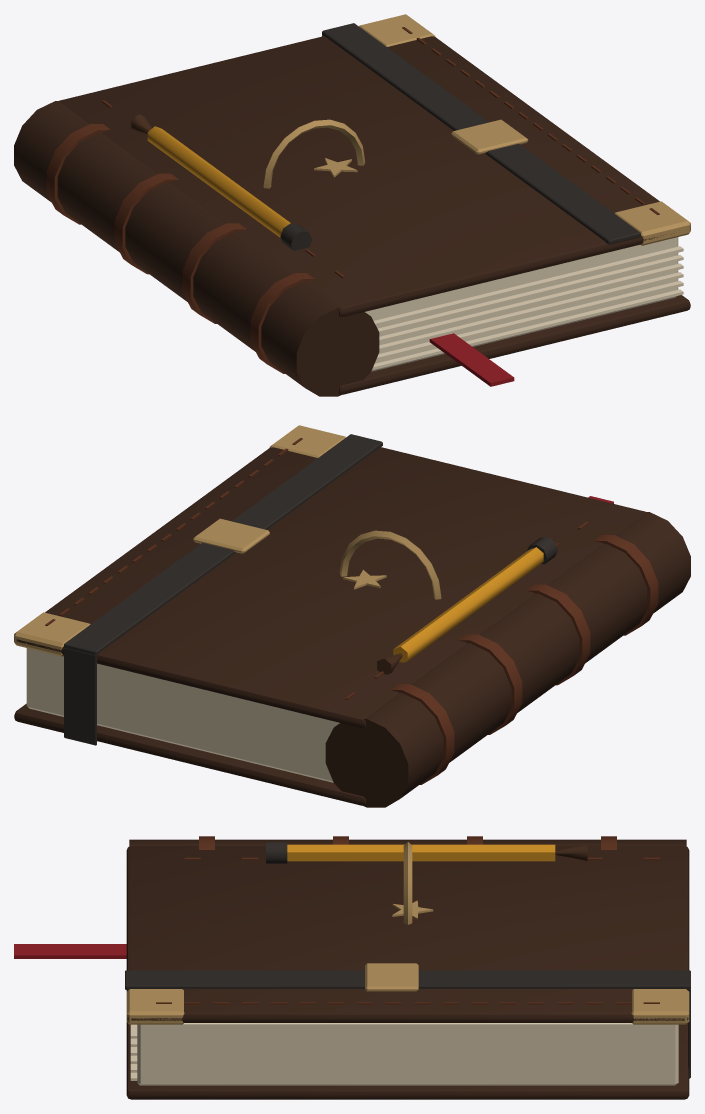
File: cell_diary.glb
3 renders of one model, top to bottom at view 1: azimuth 30°, elevation 25°; view 2: azimuth 150°, elevation 25°; view 3: azimuth 270°, elevation 25°, orthographic.
Visible parts, largest first — view 1: IA_cell_diary; view 2: IA_cell_diary; view 3: IA_cell_diary.
Boxes of the visible parts, x1,y1,x2,y2 form: IA_cell_diary: [14, 14, 690, 396]; IA_cell_diary: [14, 425, 690, 807]; IA_cell_diary: [14, 836, 690, 1099].
Size of the model in its own units: 0.1687 by 0.0595 by 0.2526.
